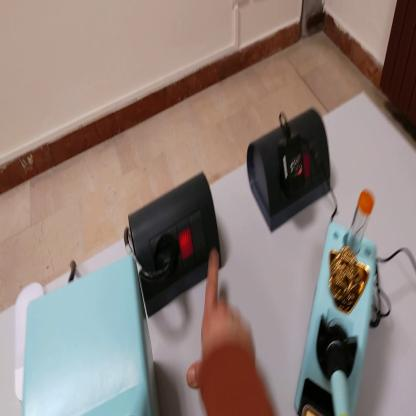hand: (190, 250, 260, 399)
socket: (128, 169, 224, 315), (250, 103, 332, 234)
welder base: (296, 192, 385, 415)
welder probe tip: (327, 333, 352, 415)
welder station: (22, 257, 160, 416)
